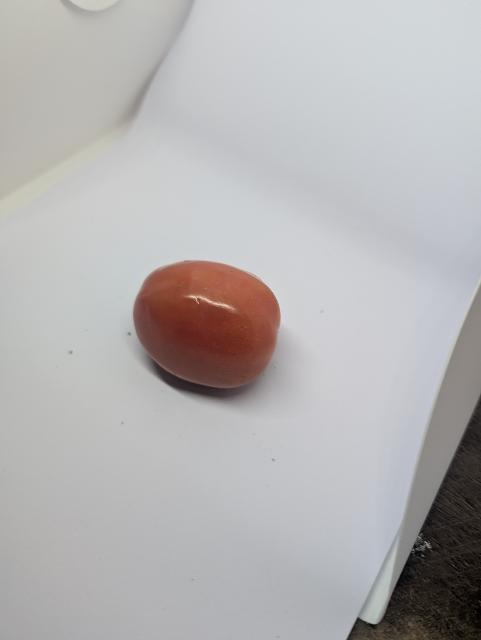red: (129, 256, 288, 395)
